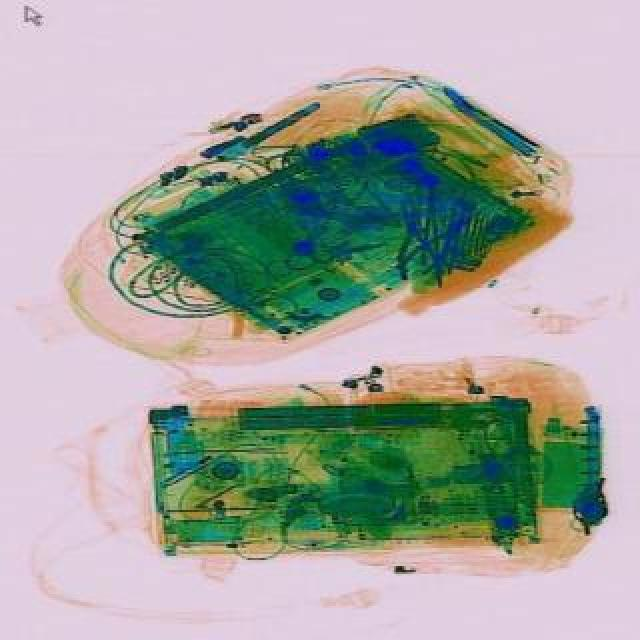wrench: (392, 208, 474, 284), (380, 192, 440, 292)
